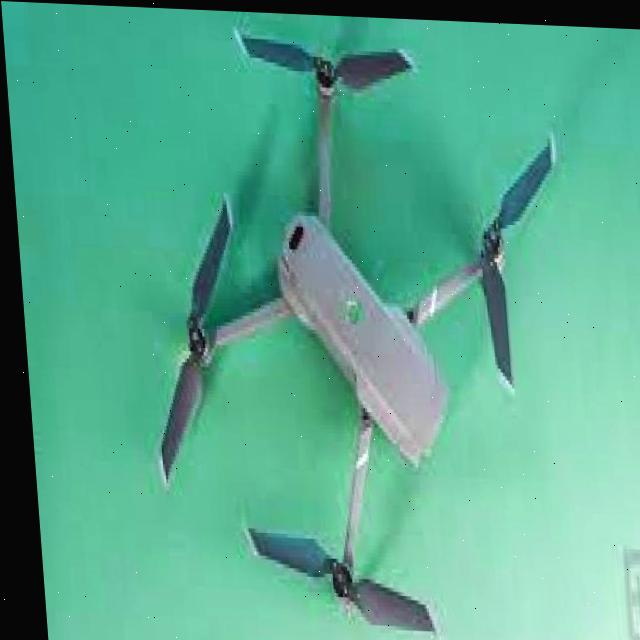drone: (118, 50, 613, 584)
